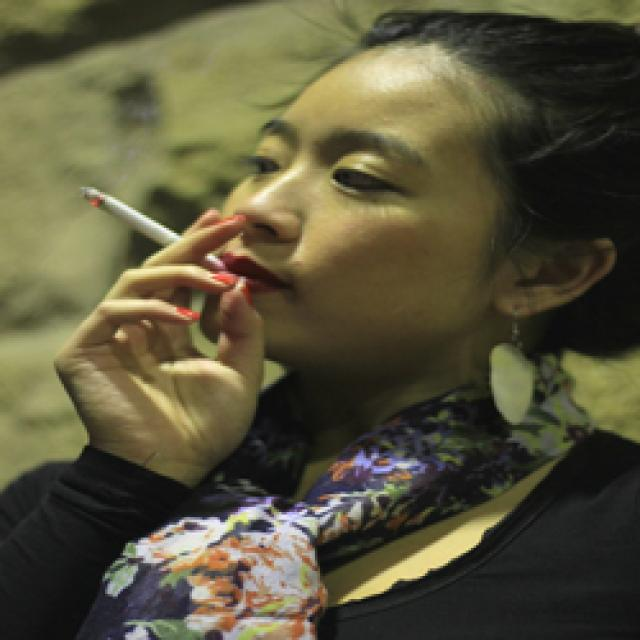Smooking: (70, 175, 234, 303)
